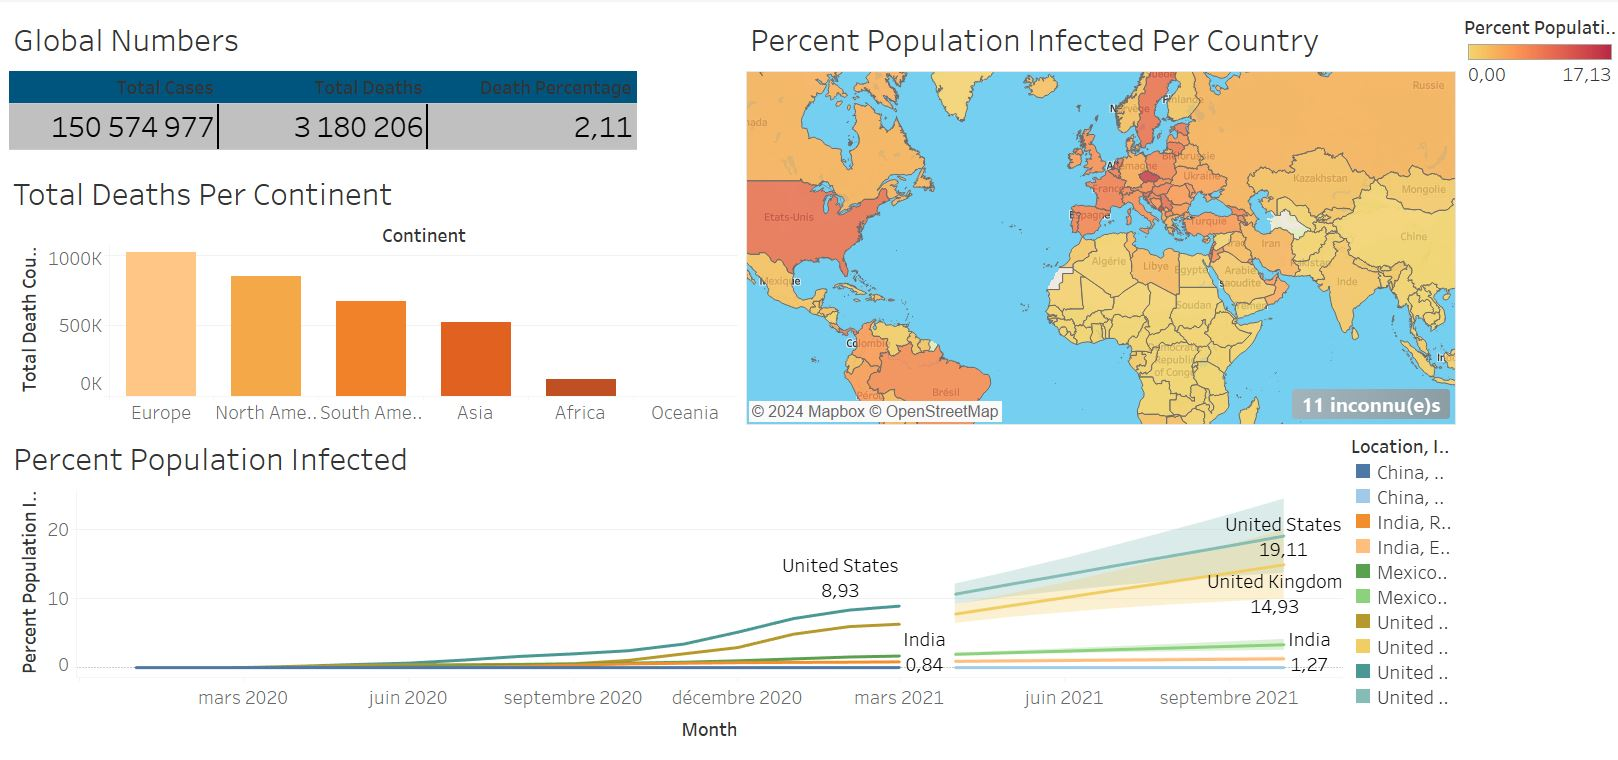

This screenshot's page, from the dashboard's own definition file:
{"tool":"tableau","page":{"name":"Tableau de bord 1","canvas":[1000,1000],"units":"permille","ordinal":0},"visuals":[{"type":"worksheet","title":"Feuille 1","mark":"Automatic","box":[4.9,10.6,451.9,203.2]},{"type":"worksheet","title":"Feuille 3","mark":"Automatic","box":[456.8,10.6,440.2,552.8]},{"type":"legend","title":"Feuille 3","param":"[federated.1mibm480m244gi19oq6yn1h5ozuj].[sum:PercentPopulationInfected:qk]","box":[897,10.6,98.1,106.9]},{"type":"worksheet","title":"Feuille 2","mark":"Automatic","rows":["TotalDeathCount"],"cols":["location"],"box":[4.9,213.7,451.9,349.6]},{"type":"worksheet","title":"Feuille 4","mark":"Automatic","rows":["PercentPopulationInfected"],"cols":["date"],"box":[4.9,563.3,822.8,426.2]},{"type":"legend","title":"Feuille 4","param":"[federated.0i9zhp30fs1gio14n43a21x03u21].[none:Location:nk]\n[federated.0i9zhp30f","box":[827.7,563.3,69.3,426.2]}]}

Visuals, with their boxes on the dashboard's canvas, which has no fixed pixel size, in thousandths of its width and height (x1, y1, x2, y2). These are canvas units, not pixel positions in the 1618x760 screenshot, which may show the page scaled, cropped or inside an application window:
"Feuille 1" worksheet: x1=5 y1=11 x2=457 y2=214
"Feuille 3" worksheet: x1=457 y1=11 x2=897 y2=563
"Feuille 3" legend: x1=897 y1=11 x2=995 y2=118
"Feuille 2" worksheet: x1=5 y1=214 x2=457 y2=563
"Feuille 4" worksheet: x1=5 y1=563 x2=828 y2=990
"Feuille 4" legend: x1=828 y1=563 x2=897 y2=990
